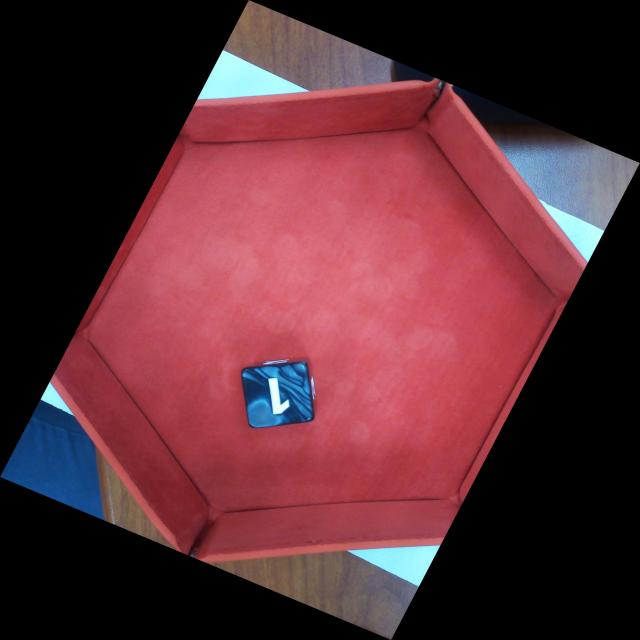dice: (239, 362, 316, 429)
